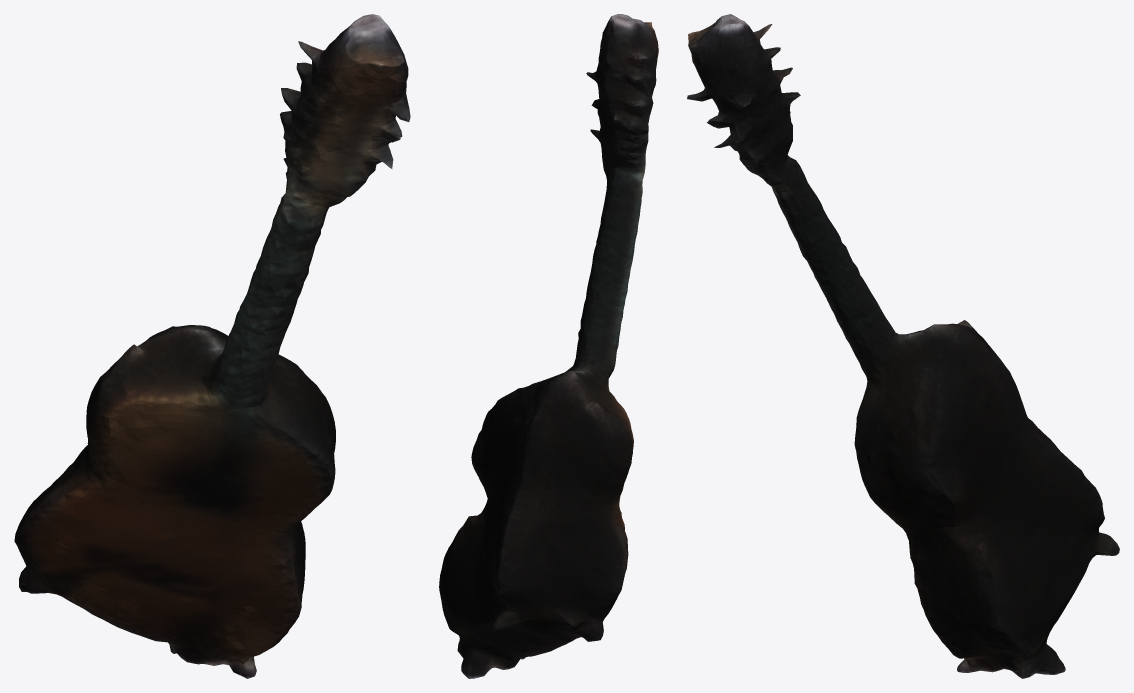
File: IMG_SEG_46.glb
The picture shows the model from 3 angles, left to right: view 1: azimuth 30°, elevation 25°; view 2: azimuth 150°, elevation 25°; view 3: azimuth 270°, elevation 25°; orthographic projection. The views are drawn at different scales.
Bounding box in the file's own units: 0.3481 × 0.9528 × 0.5781.
Materials: 1 (1 with a texture image).
